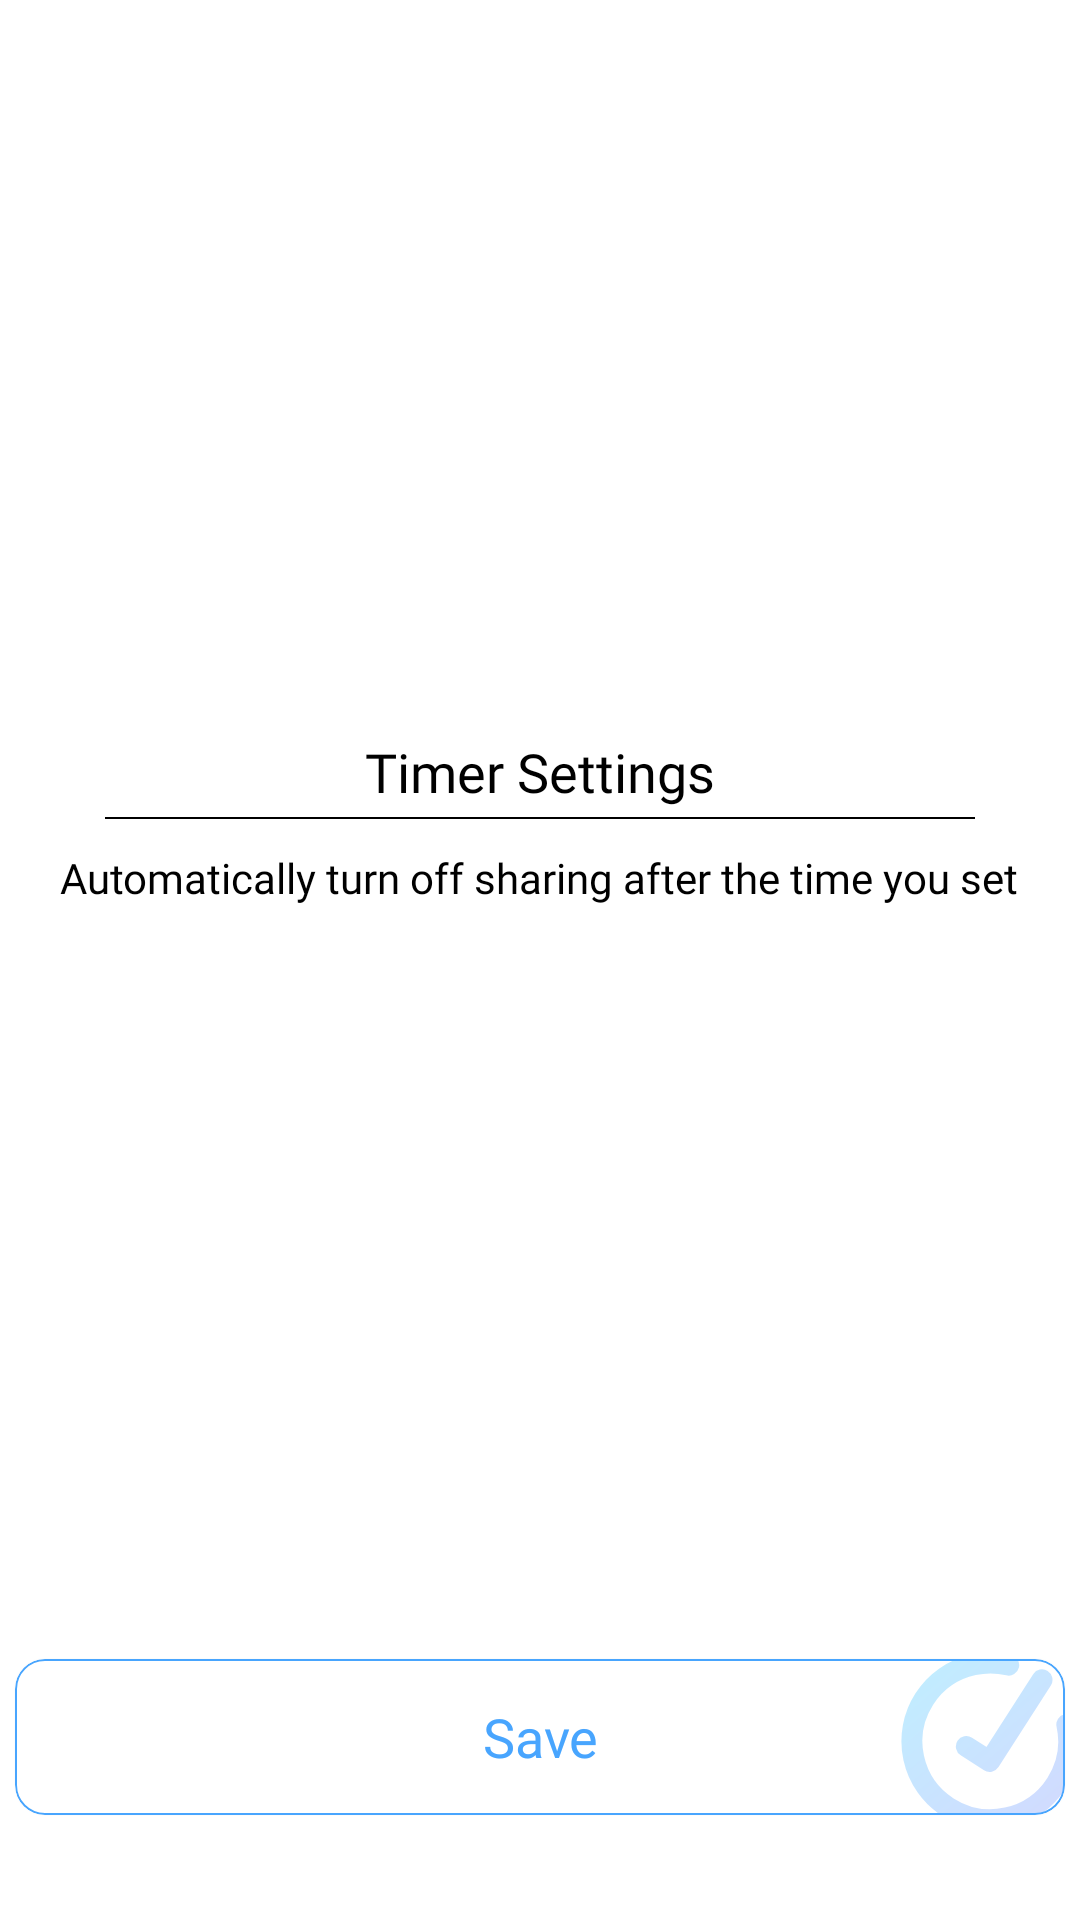

Icon click points for this 1080×1920 phone screenshot, format (x=x, y=y):
check: (x=981, y=1736)
